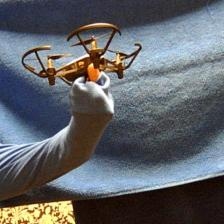drone: (21, 23, 143, 87)
